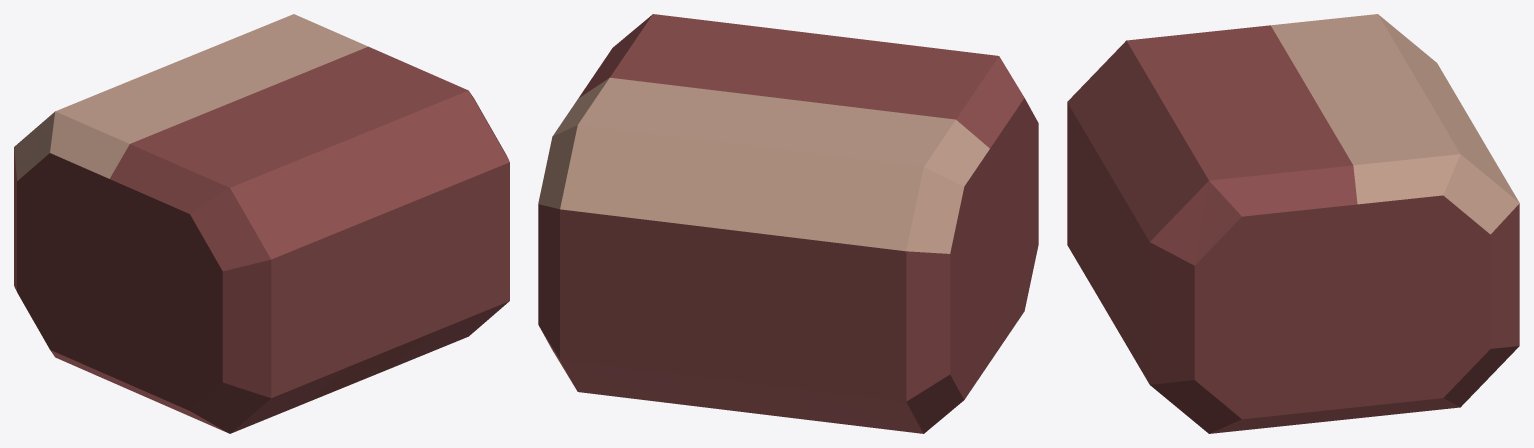
The model's file is item_meat_human_a.obj.
The picture shows the model from 3 angles, left to right: view 1: azimuth 30°, elevation 25°; view 2: azimuth 150°, elevation 25°; view 3: azimuth 270°, elevation 25°; orthographic projection. The views are drawn at different scales.
Size of the model in its own units: 0.3832 by 0.2288 by 0.3704.
